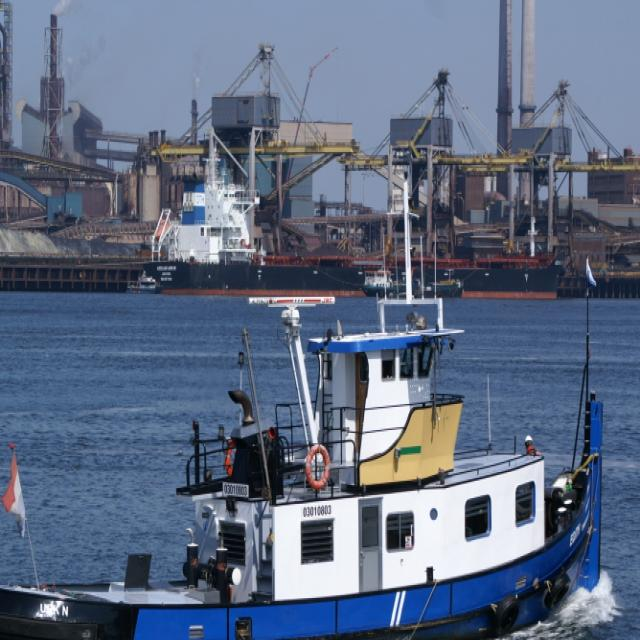tugboat: (1, 286, 610, 640)
